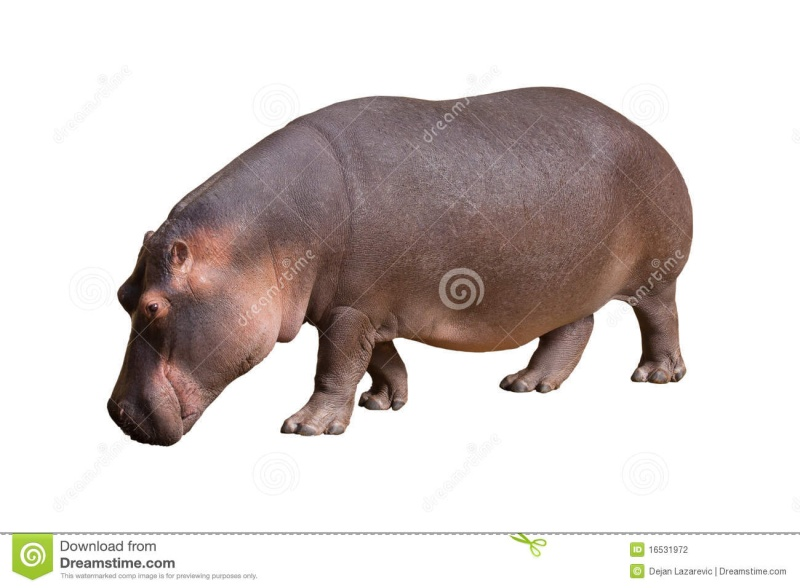hipopotamo: (102, 92, 693, 448)
